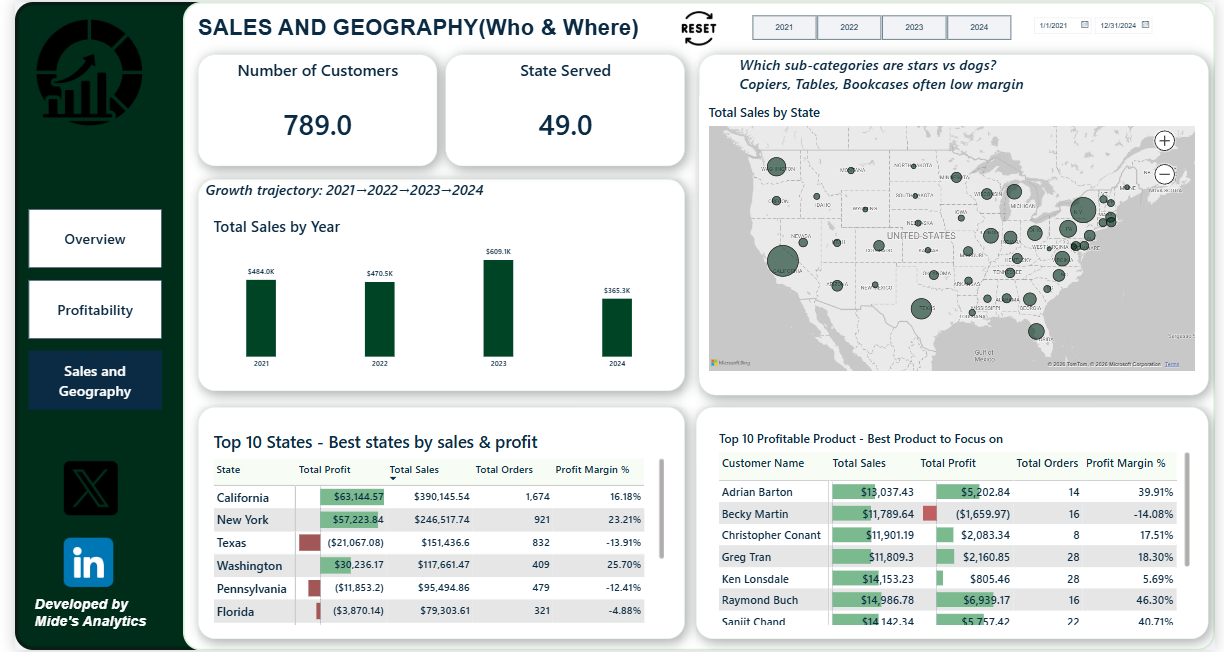

The page's visual inventory and layout, read from the dashboard file:
{"tool":"powerbi","page":{"name":"Sales and Geography","canvas":[2000,1080],"ordinal":2},"visuals":[{"type":"shape","box":[718.2,88.3,398.4,186.1],"z":0},{"type":"shape","box":[0,0,337.5,1080],"z":1000},{"type":"shape","box":[279.2,0,1720.2,1080.8],"z":2000},{"type":"shape","box":[305.4,675.2,811.2,386.5],"z":3000},{"type":"shape","box":[305.4,295.9,811.2,353.1],"z":4000},{"type":"shape","box":[305.4,88.3,398.4,186.1],"z":5000},{"type":"slicer","fields":{"Values":["Calendar_Table.Date"]},"box":[1690,20,292.5,45],"z":6000},{"type":"shape","box":[1140.5,88.3,849.4,567.8],"z":7000},{"type":"slicer","fields":{"Values":["Calendar_Table.Year"]},"box":[1207.5,20,472.5,45],"z":8000},{"type":"textbox","box":[305,20,735,70],"z":9000},{"type":"image","box":[32.5,877.5,180,112.5],"z":10000},{"type":"textbox","box":[32.5,990,202.5,90],"z":11000},{"type":"shape","box":[718.2,88.3,398.4,186.1],"z":12000},{"type":"image","box":[0,750,252.5,120],"z":13000},{"type":"shape","box":[1135.7,675.2,854.2,386.5],"z":14000},{"type":"card","title":"State Served","fields":{"Values":["Data.Number of State"]},"box":[737.2,95.4,360.3,169.4],"z":15000},{"type":"card","title":"Number of Customers","fields":{"Values":["Data.5_Number of Customer"]},"box":[314.9,95.4,379.4,169.4],"z":16000},{"type":"pivotTable","title":"Top 10 States - Best states by sales & profit","fields":{"Values":["Data.3_Total Profit","Data.1_Total Sales","Data.4_Total Orders","Data.6_Profit Margin %"],"Rows":["Data.State"]},"box":[315.9,696.9,782.5,354.3],"z":17000},{"type":"textbox","box":[1207.3,88.3,765.9,64.4],"z":18000},{"type":"map","title":"Total Sales by State","fields":{"Category":["Data.State"],"Size":["Data.1_Total Sales"]},"box":[1139.8,153.5,841.5,478.4],"z":19000},{"type":"columnChart","title":"Total Sales by Year","fields":{"Category":["Calendar_Table.Year"],"Y":["Data.1_Total Sales"]},"box":[314.9,341.2,782.6,291.1],"z":20000},{"type":"textbox","box":[317.3,295.9,780.2,45.3],"z":21000},{"type":"pivotTable","title":"Top 10 Profitable Product - Best Product to Focus on","fields":{"Rows":["Data.Customer Name"],"Values":["Data.1_Total Sales","Data.3_Total Profit","Data.4_Total Orders","Data.6_Profit Margin %"]},"box":[1157.2,696.7,816,355.5],"z":22000},{"type":"image","box":[1080,0,120,87.5],"z":23000},{"type":"pageNavigator","box":[7.5,330,252.5,365],"z":24000},{"type":"image","box":[15,2.5,217.5,230],"z":25000}]}

Visuals, with their boxes in screenshot pixels (x1, y1, x2, y2), scaled from the page's 2000x1080 canvas onto the 1224x652 screenshot:
shape: x1=440, y1=53, x2=683, y2=166
shape: x1=0, y1=0, x2=207, y2=651
shape: x1=171, y1=0, x2=1223, y2=651
shape: x1=187, y1=408, x2=683, y2=641
shape: x1=187, y1=179, x2=683, y2=392
shape: x1=187, y1=53, x2=431, y2=166
slicer - Calendar_Table.Date: x1=1034, y1=12, x2=1213, y2=39
shape: x1=698, y1=53, x2=1218, y2=396
slicer - Calendar_Table.Year: x1=739, y1=12, x2=1028, y2=39
textbox: x1=187, y1=12, x2=636, y2=54
image: x1=20, y1=530, x2=130, y2=598
textbox: x1=20, y1=598, x2=144, y2=651
shape: x1=440, y1=53, x2=683, y2=166
image: x1=0, y1=453, x2=155, y2=525
shape: x1=695, y1=408, x2=1218, y2=641
"State Served" card: x1=451, y1=58, x2=672, y2=160
"Number of Customers" card: x1=193, y1=58, x2=425, y2=160
"Top 10 States - Best states by sales & profit" pivotTable: x1=193, y1=421, x2=672, y2=635
textbox: x1=739, y1=53, x2=1208, y2=92
"Total Sales by State" map: x1=698, y1=93, x2=1213, y2=381
"Total Sales by Year" columnChart: x1=193, y1=206, x2=672, y2=382
textbox: x1=194, y1=179, x2=672, y2=206
"Top 10 Profitable Product - Best Product to Focus on" pivotTable: x1=708, y1=421, x2=1208, y2=635
image: x1=661, y1=0, x2=734, y2=53
pageNavigator: x1=5, y1=199, x2=159, y2=420
image: x1=9, y1=2, x2=142, y2=140
